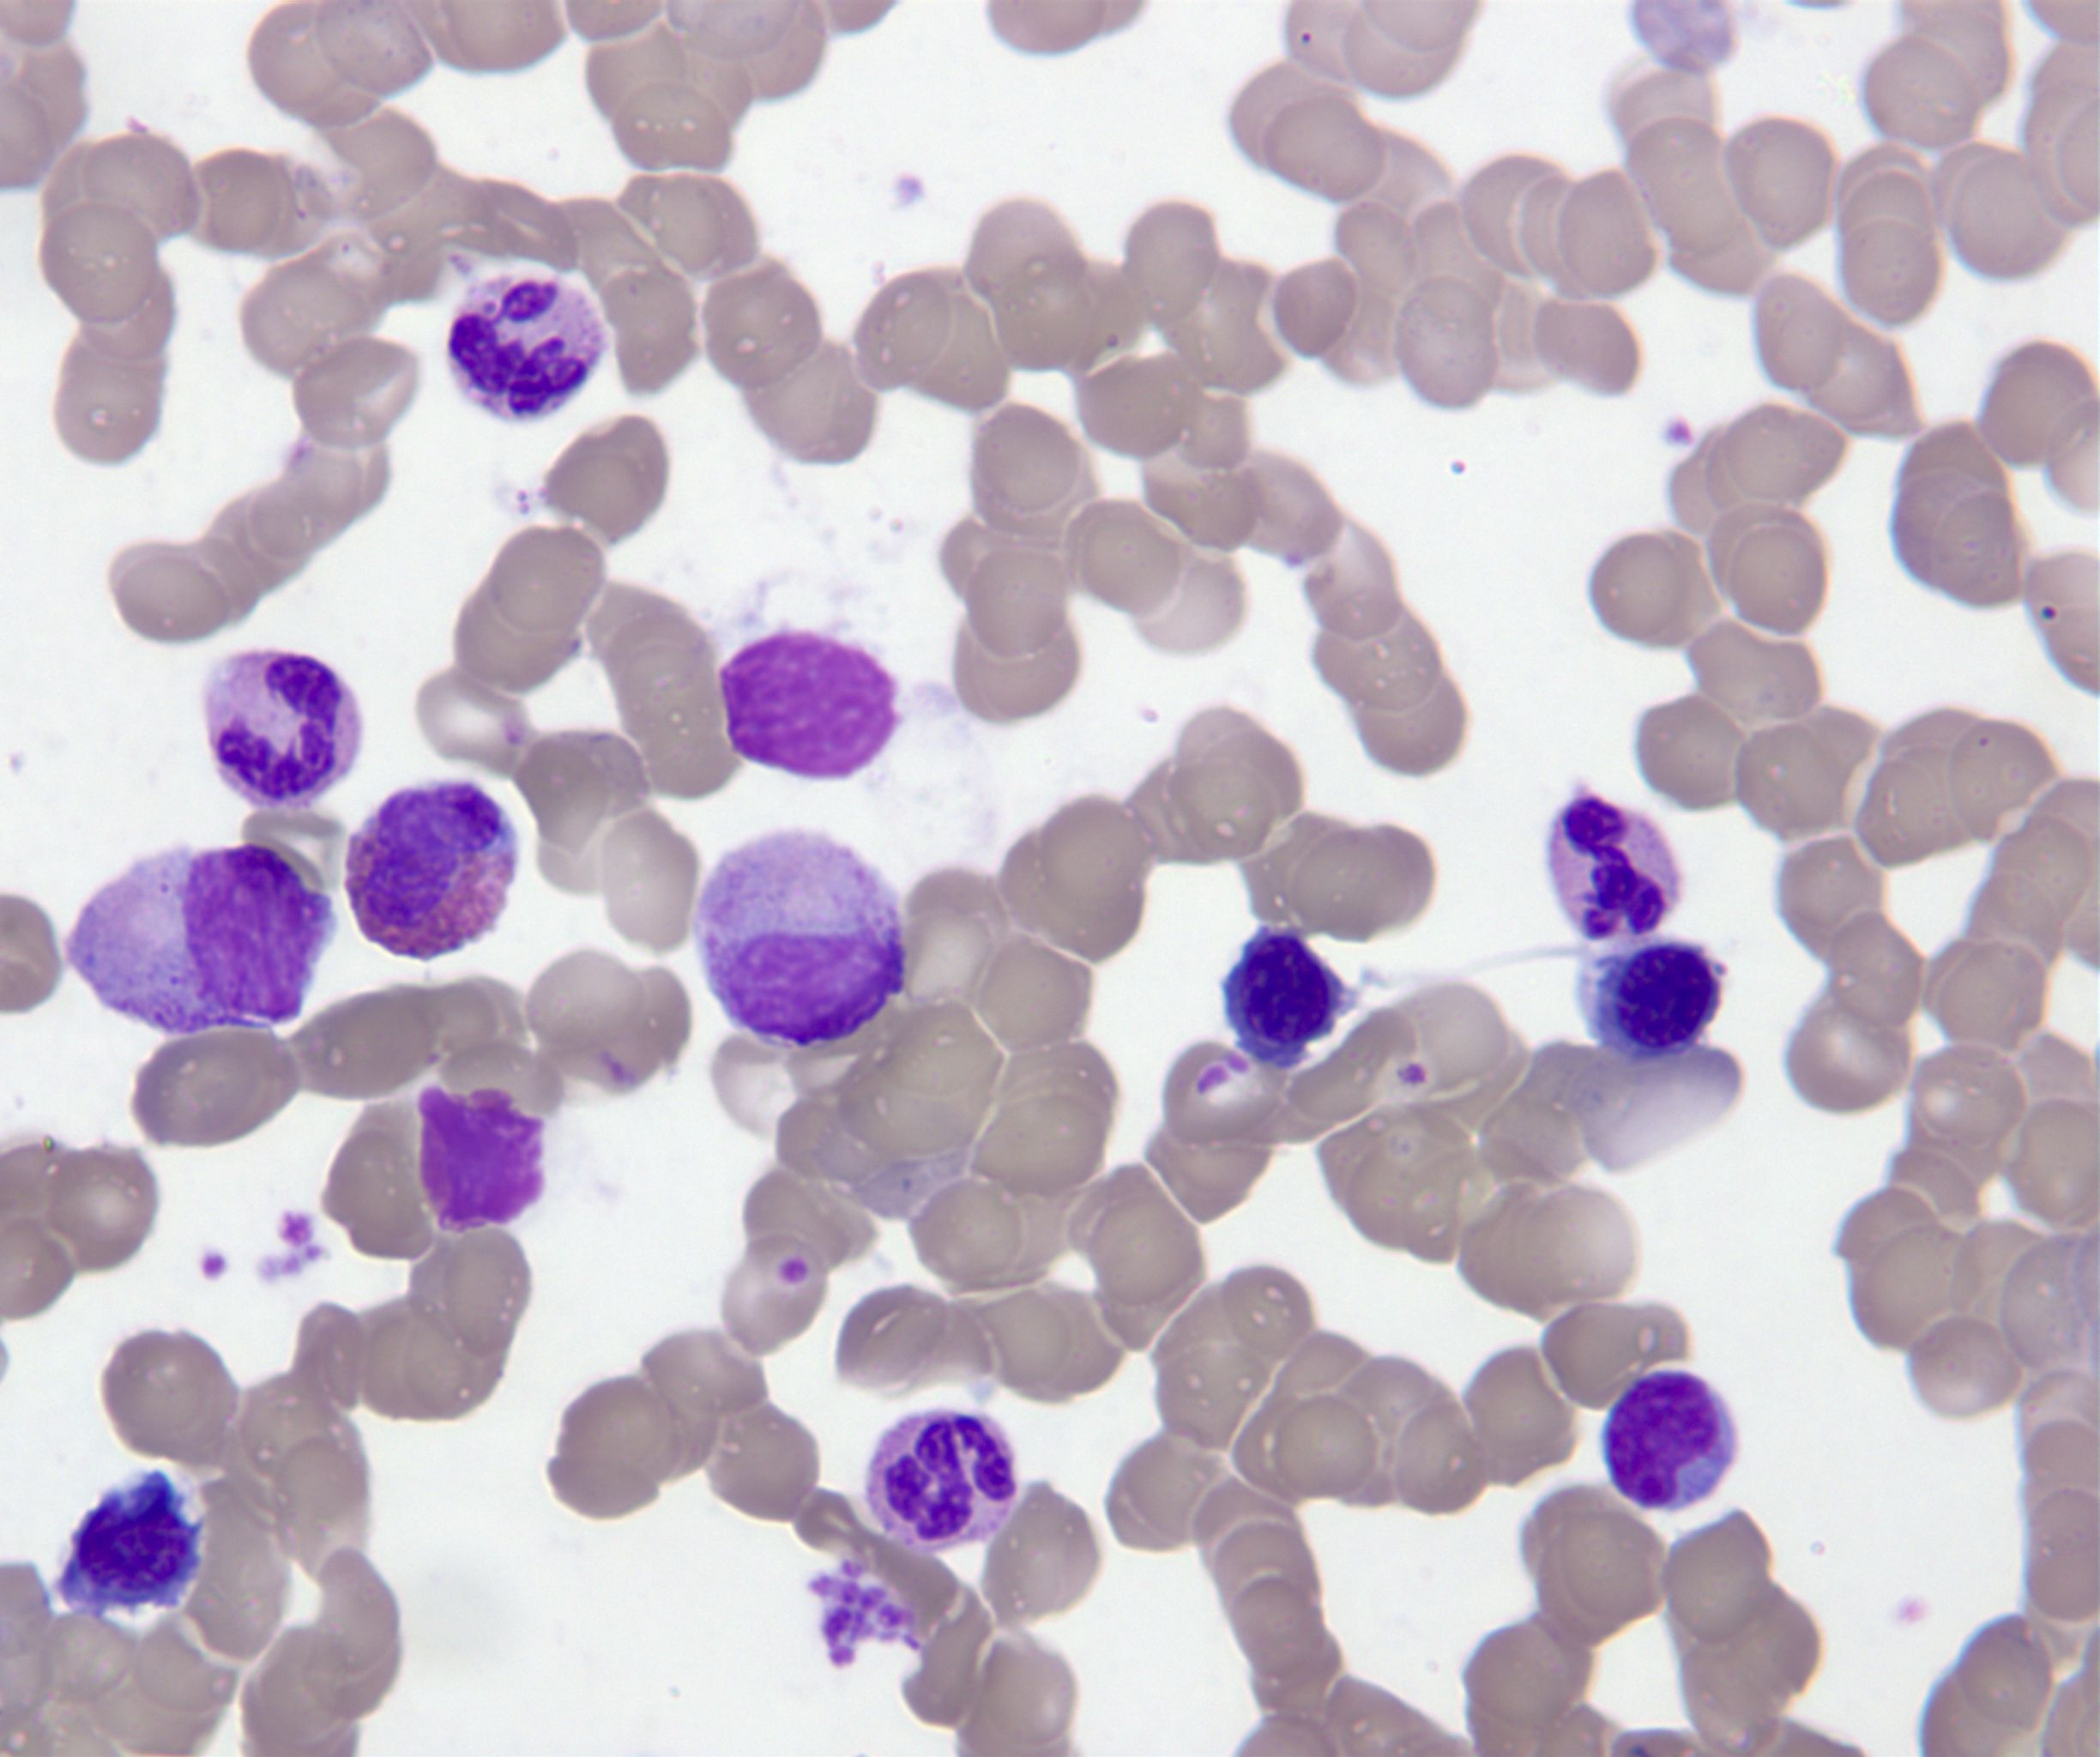24: (52, 1464, 209, 1623), (1200, 921, 1350, 1071), (1587, 935, 1727, 1061)
3: (61, 837, 344, 1040), (685, 820, 916, 1054)
32: (1599, 1359, 1742, 1516)
5: (199, 644, 366, 815), (860, 1405, 1024, 1558)
6: (445, 276, 610, 429), (1538, 789, 1688, 946)
E3: (342, 775, 523, 967)
x: (710, 630, 910, 790)
